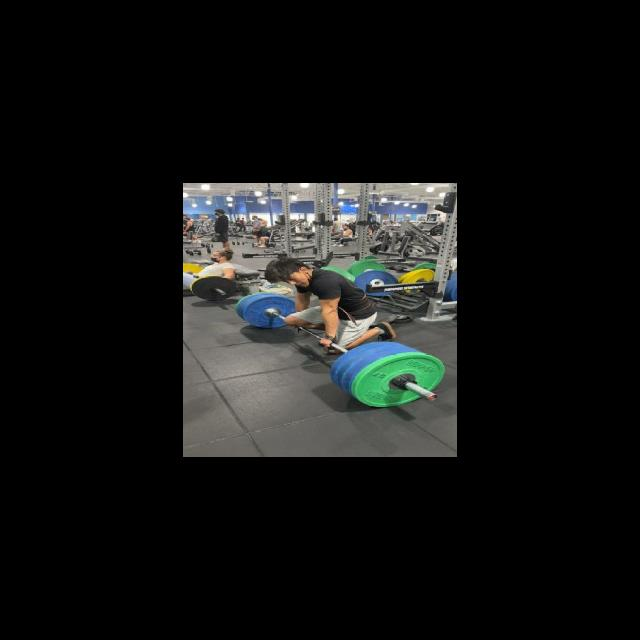barbell: (354, 352, 446, 410)
